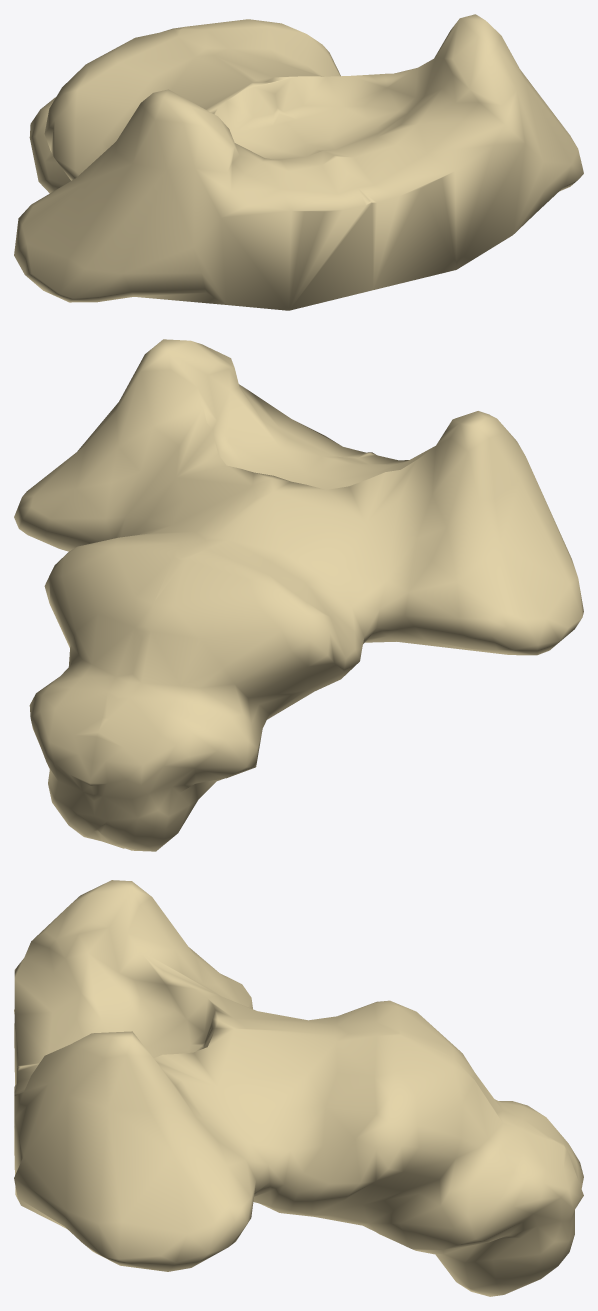
3 views of the same model, one above another, from view 1: azimuth 30°, elevation 25°; view 2: azimuth 150°, elevation 25°; view 3: azimuth 270°, elevation 25° (orthographic).
Visible parts, largest first — view 1: 尾骨; view 2: 尾骨; view 3: 尾骨.
Boxes of the visible parts, x1,y1,x2,y2 form: 尾骨: (14,14,583,310); 尾骨: (14,339,583,851); 尾骨: (14,880,583,1296).
Bounding box in the file's own units: 0.0494 × 0.0291 × 0.0454.
